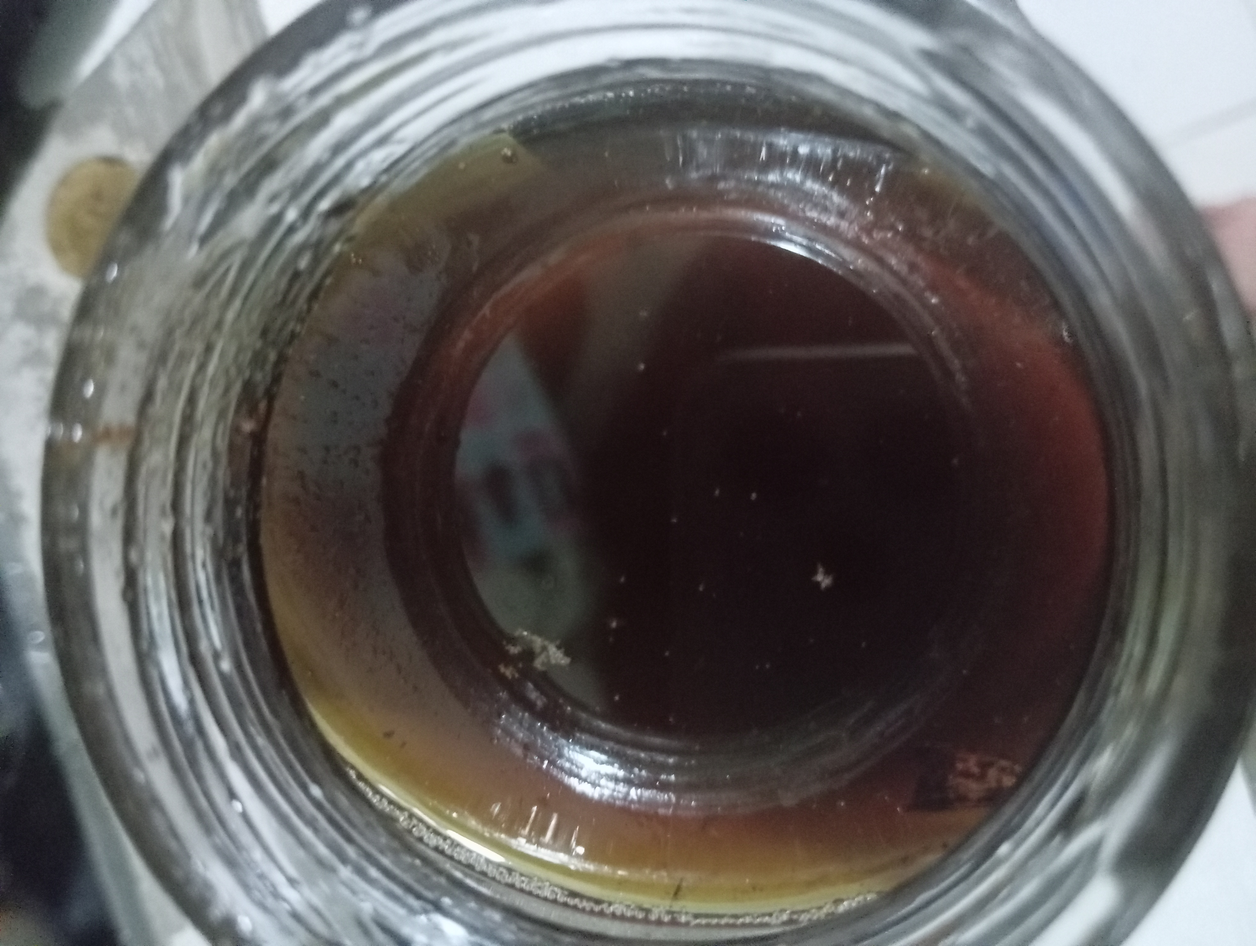non-reusable: (249, 74, 1114, 896)
